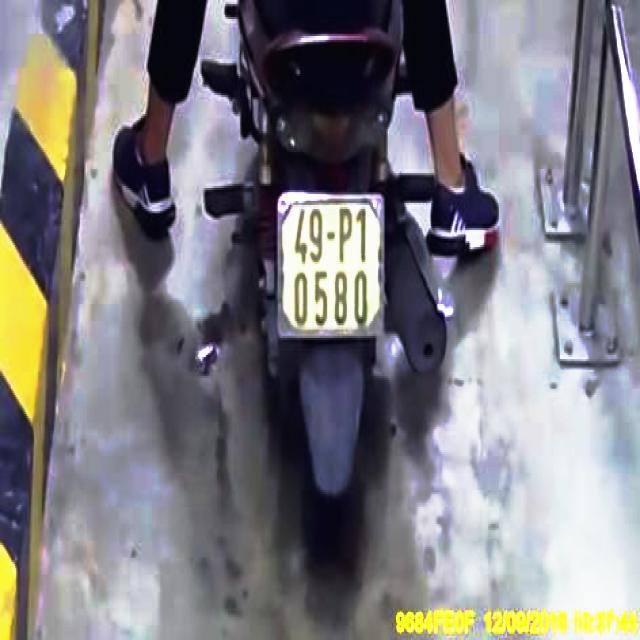license_plate: (279, 196, 388, 338)
